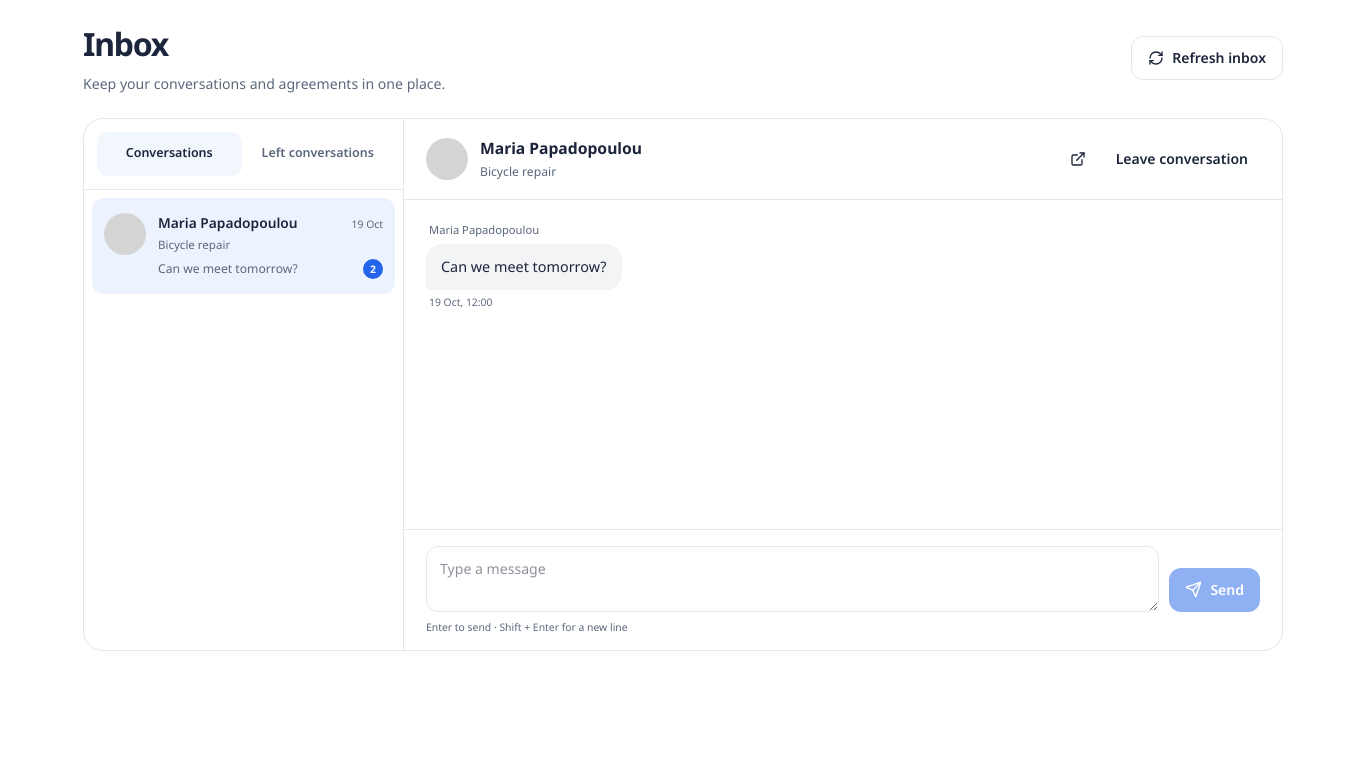
Test: Inbox user journeys › retains the Leave dialog after a failed membership change
Click the button "Leave conversation" at (1182, 159), box [1104, 137, 1260, 181]
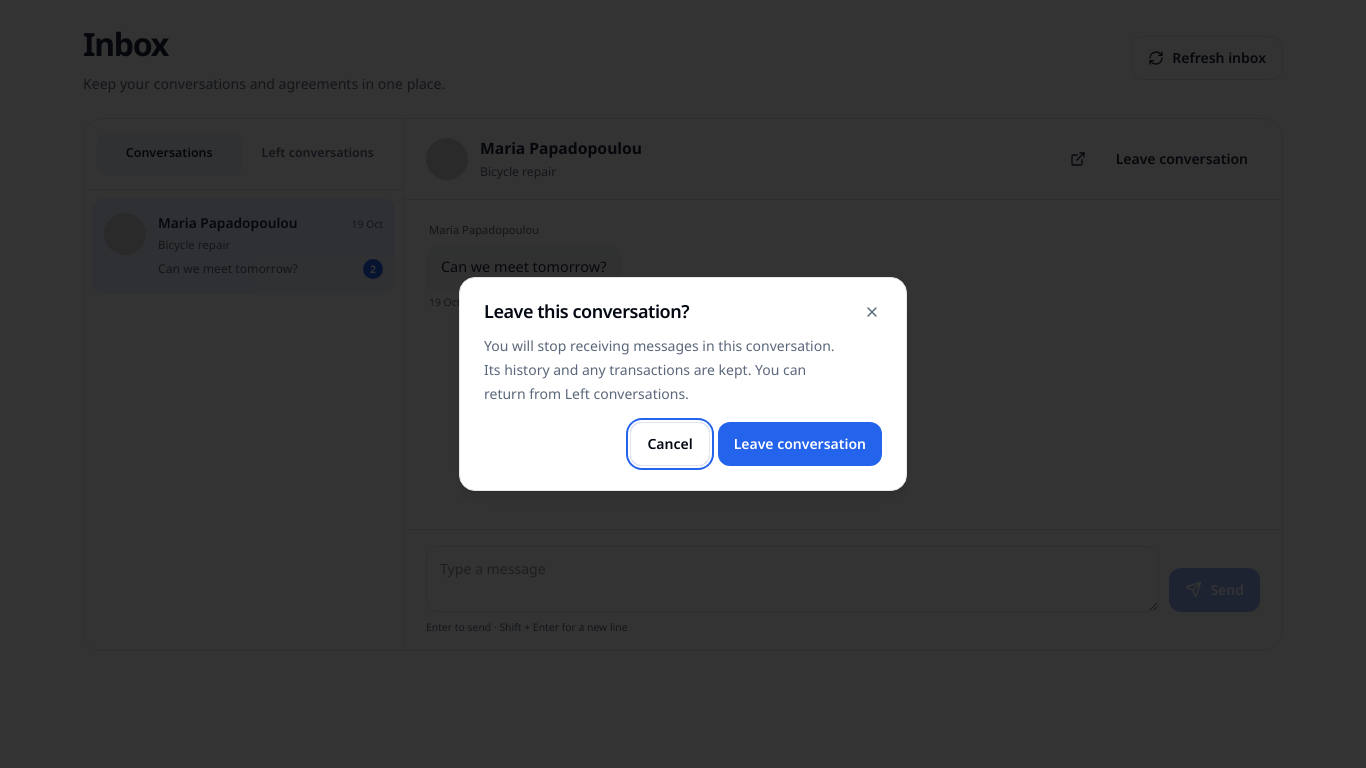
Click the button "Leave conversation" at (800, 444), box [718, 422, 882, 466]
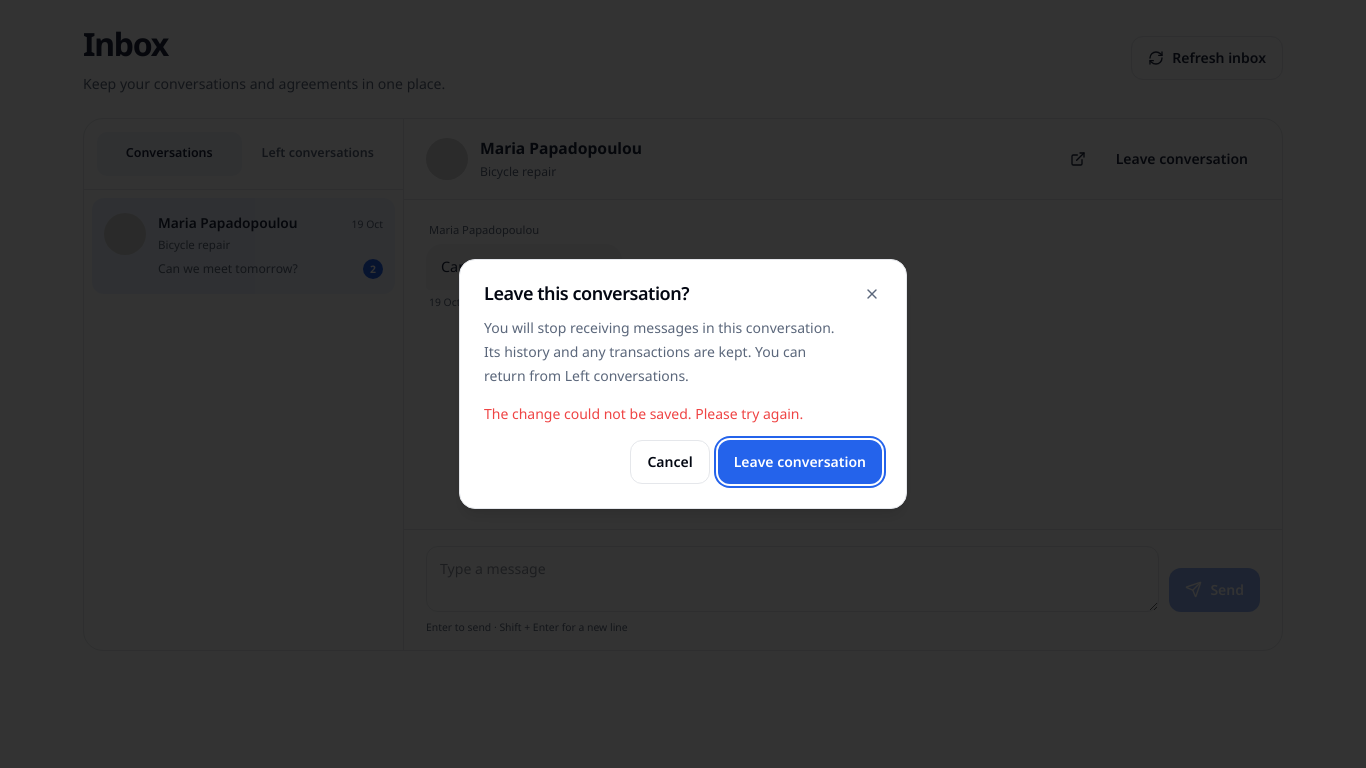
Check: the dialog is shown, box [459, 259, 907, 509]
Check: the message shows "The change could not be saved", box [484, 404, 803, 423]
